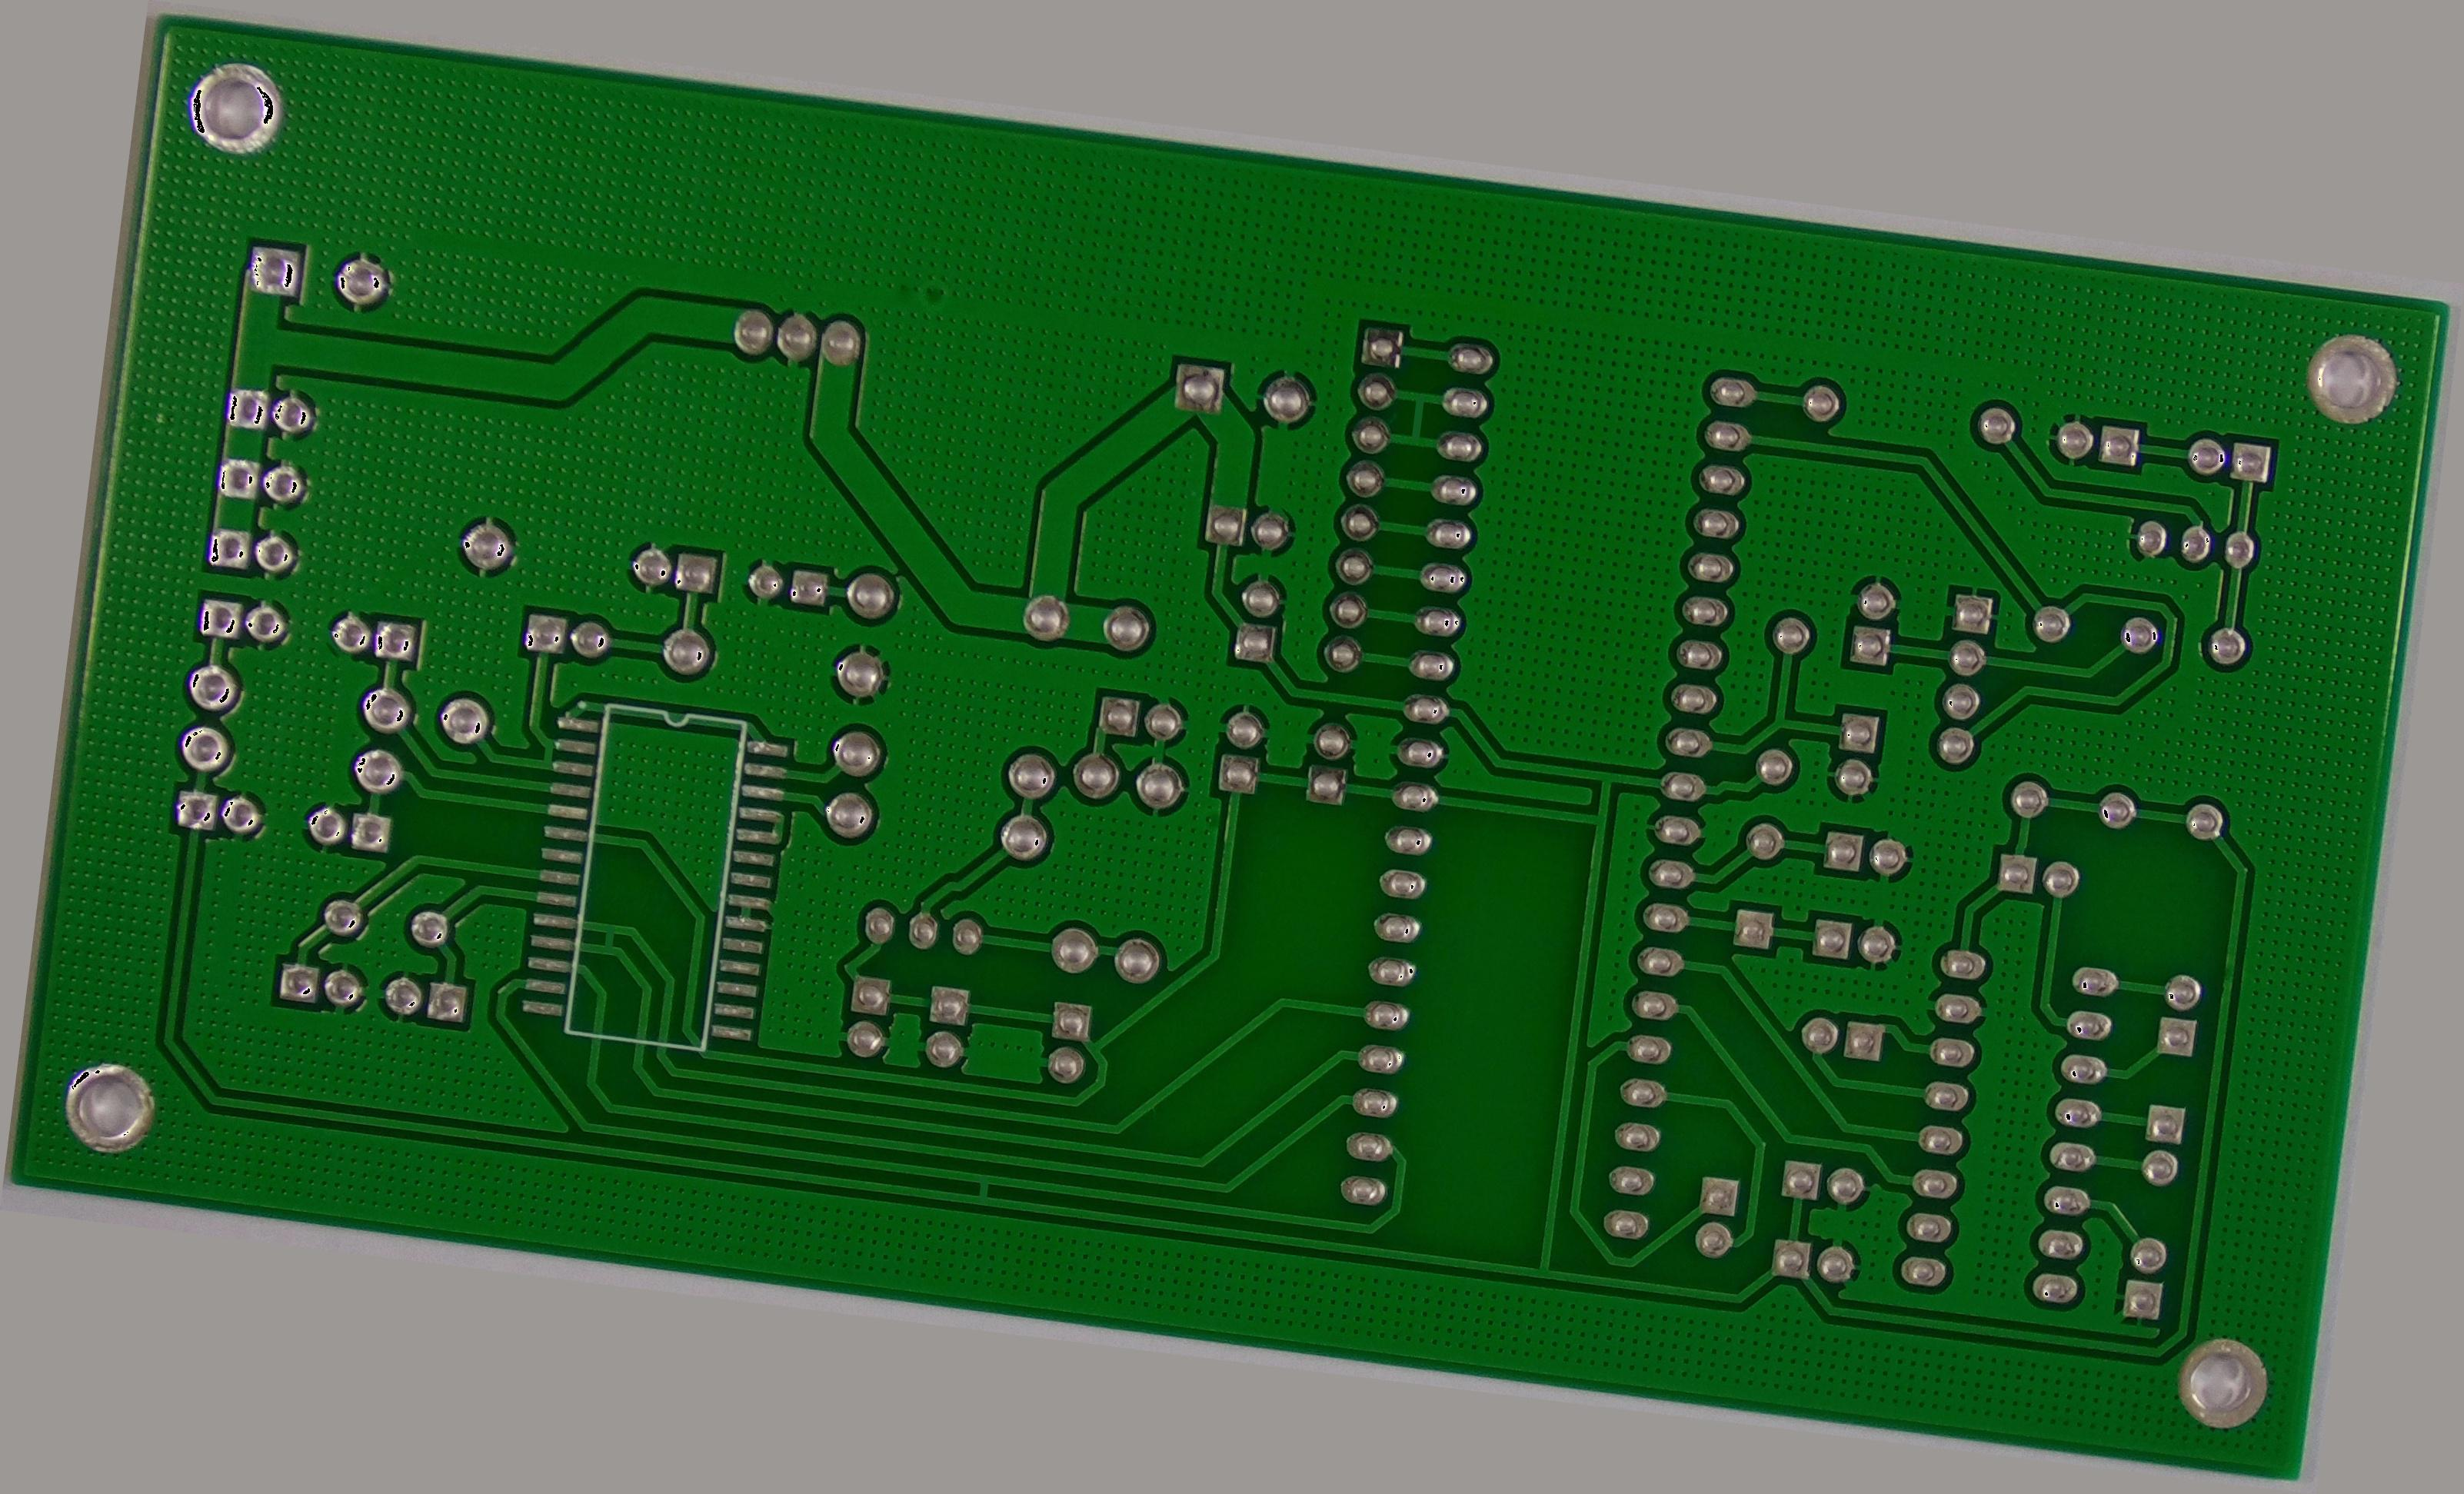short: (1387, 382, 1447, 450), (588, 917, 634, 966), (524, 729, 570, 778), (957, 1165, 1008, 1209)
